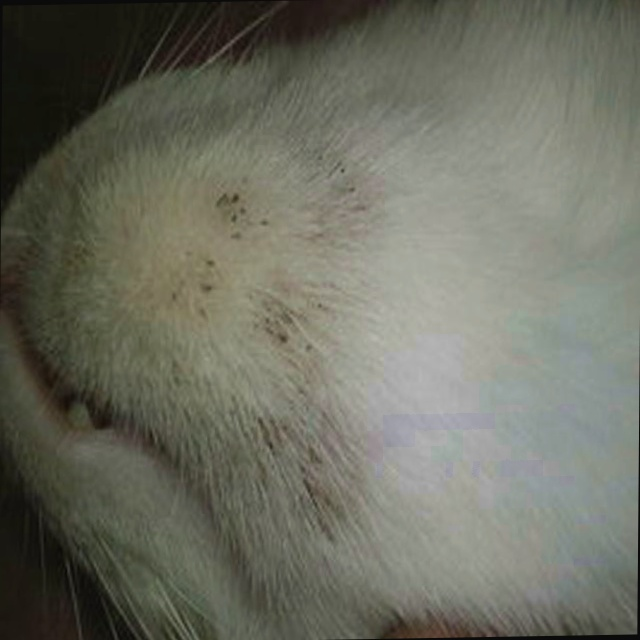acne: (158, 184, 332, 353)
